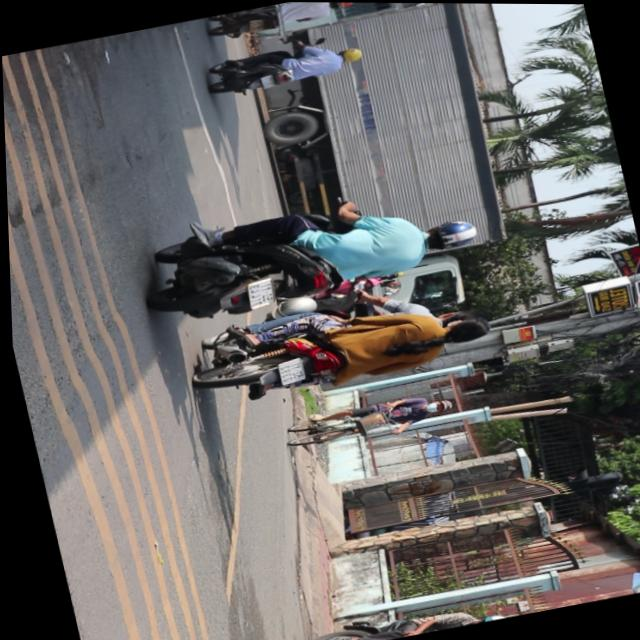helmet: (421, 217, 478, 254)
licenseplate: (132, 171, 488, 336), (182, 277, 500, 416)
motorcyclist: (438, 314, 490, 348)
nohelmet: (243, 277, 276, 310), (272, 357, 303, 386)
